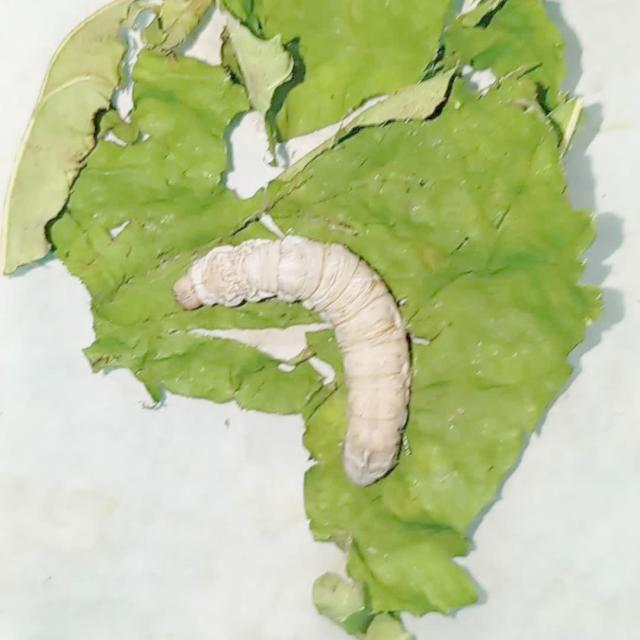Grasserie: (162, 217, 424, 491)
